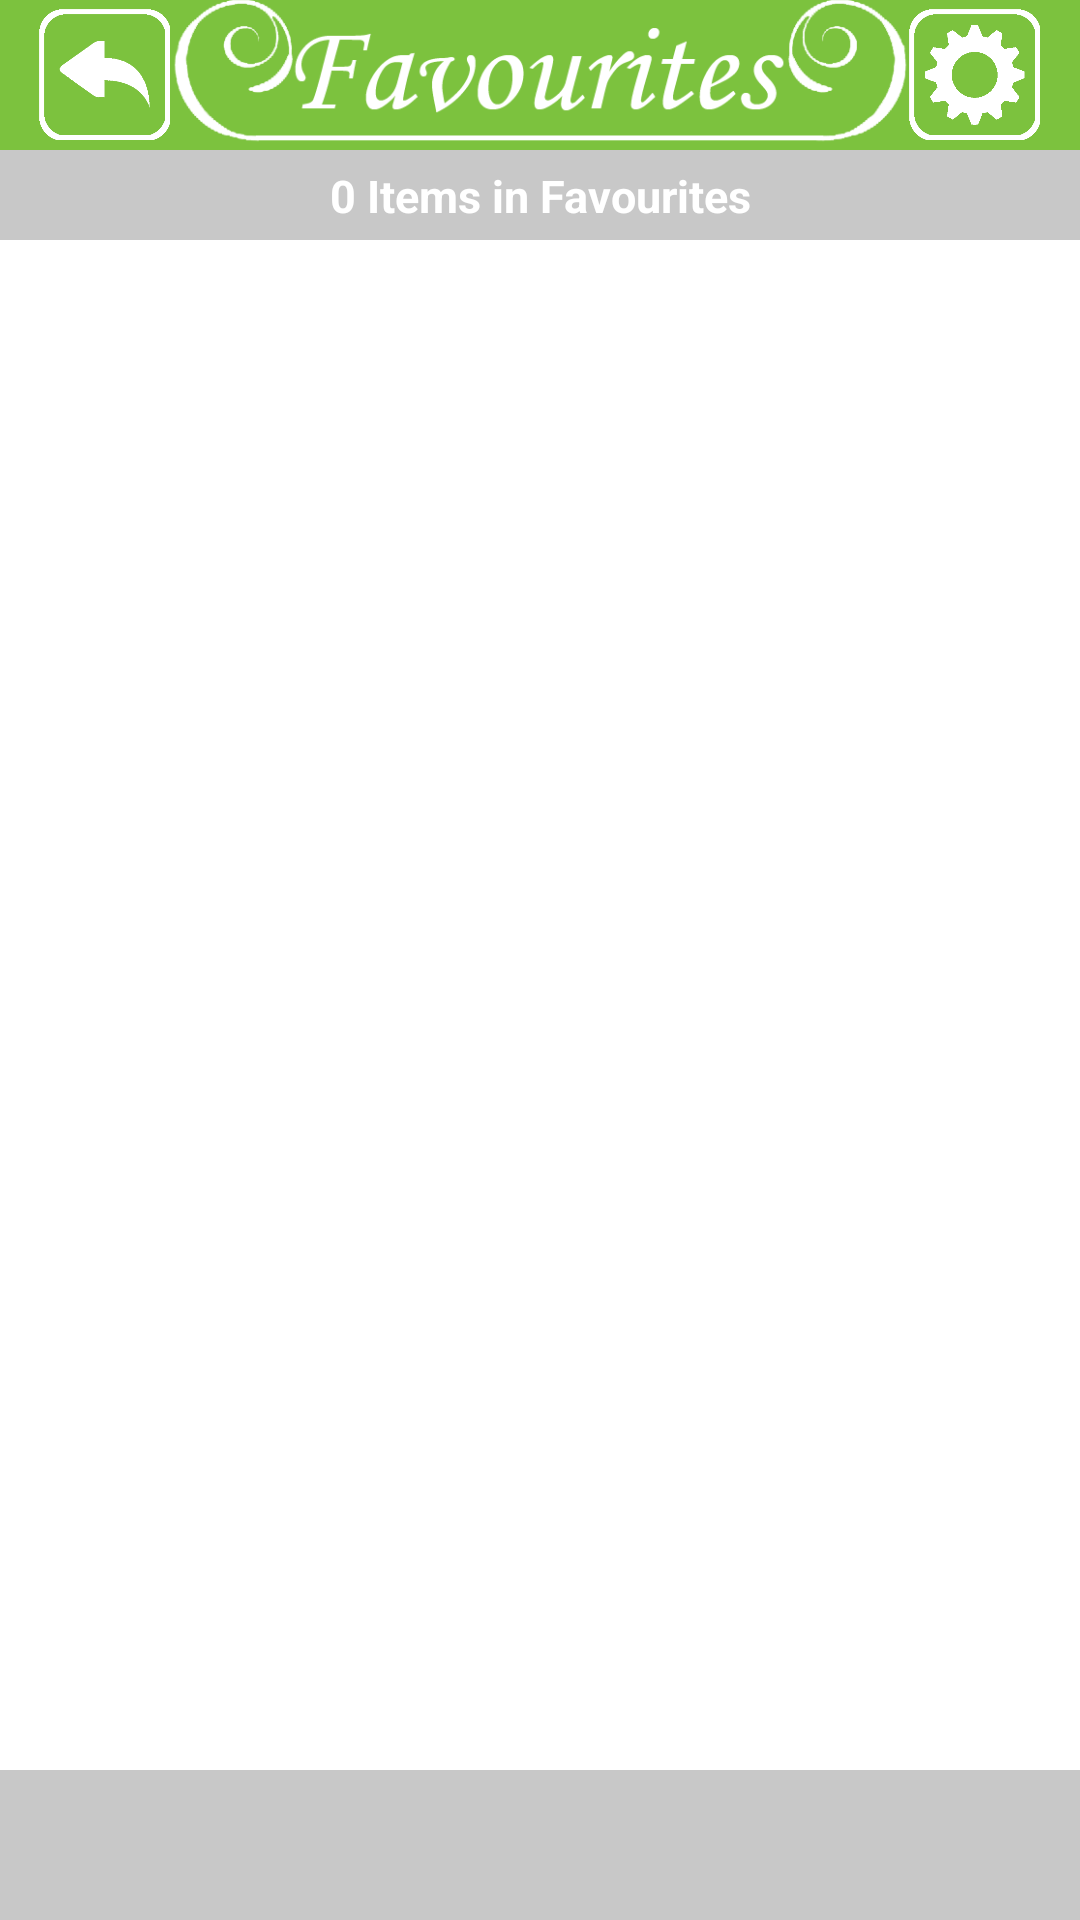

Where to tap for icons on this 1080×1920 app screen, as (x=x, y=y):
backbutton: (x=104, y=74)
settingsbutton: (x=974, y=74)
